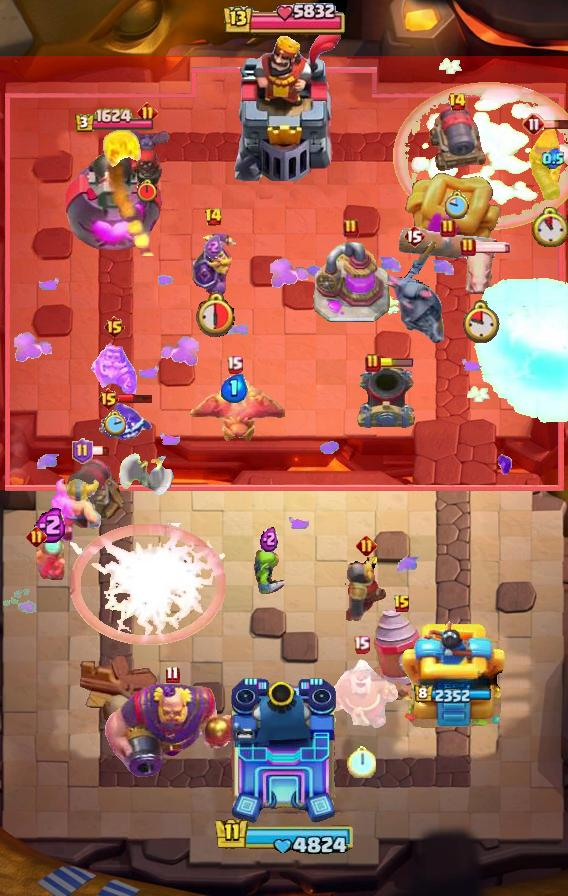barbarian-barrel: (119, 128, 175, 154)
barbarian-evolution: (70, 523, 228, 645)
bomb-tower: (526, 124, 568, 204)
clock: (210, 816, 358, 858), (221, 0, 347, 40)
electro-spirit: (34, 505, 68, 542), (221, 374, 248, 403), (542, 148, 564, 170), (260, 526, 278, 552), (204, 235, 222, 258)
elixir: (193, 290, 236, 337), (464, 301, 501, 343), (532, 207, 568, 247), (348, 745, 376, 778), (446, 190, 470, 219), (102, 410, 125, 436), (136, 179, 158, 203)
elixir-collector: (322, 656, 400, 730)
emote: (474, 241, 512, 253), (118, 392, 154, 403), (378, 358, 414, 368), (544, 118, 568, 130), (90, 445, 110, 457)
firecracker: (344, 557, 387, 623)
firecracker-evolution: (192, 231, 237, 299), (91, 341, 137, 399)
giant: (464, 245, 498, 301)
goblin-giant: (51, 476, 102, 542)
golemite: (379, 237, 449, 347)
king-tower: (223, 31, 345, 181), (228, 676, 340, 826)
lightning: (104, 681, 240, 779)
magic-archer: (372, 607, 432, 701)
mega-knight: (472, 277, 568, 427)
minion: (399, 228, 497, 264)
mother-witch: (183, 377, 285, 447)
musketeer: (355, 364, 417, 432)
pekka: (312, 242, 390, 324)
phoenix-big: (392, 80, 568, 231)
queen-tower: (399, 617, 507, 731)
royal-giant: (118, 440, 174, 498)
royal-giant-evolution: (60, 455, 128, 525), (428, 102, 486, 172)
selected: (73, 108, 154, 134), (414, 685, 492, 705)
spear-goblin: (96, 402, 152, 442)
text: (522, 112, 546, 136), (102, 315, 125, 339), (97, 387, 120, 411), (71, 438, 92, 464), (403, 224, 425, 248), (137, 101, 158, 123), (355, 535, 376, 557), (25, 525, 46, 546), (448, 92, 468, 112), (205, 207, 224, 227), (393, 594, 411, 614), (225, 355, 243, 373), (353, 635, 371, 653), (343, 218, 359, 238), (440, 218, 456, 238), (460, 237, 476, 257), (365, 353, 381, 373), (165, 665, 179, 683)
tower-bar: (63, 138, 164, 256)
valkyrie: (100, 128, 146, 176)
witch: (33, 536, 69, 584)
zap: (248, 540, 290, 598)
